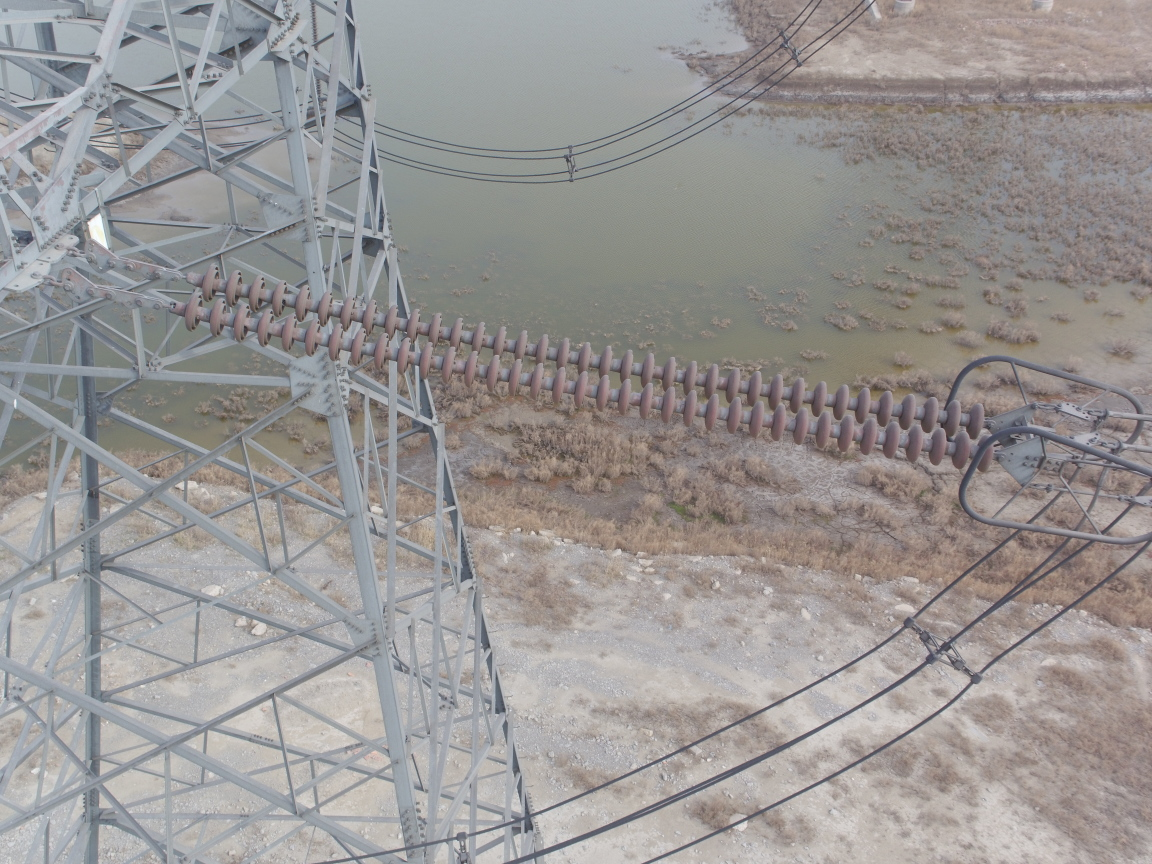insulator: (117, 258, 1017, 479)
